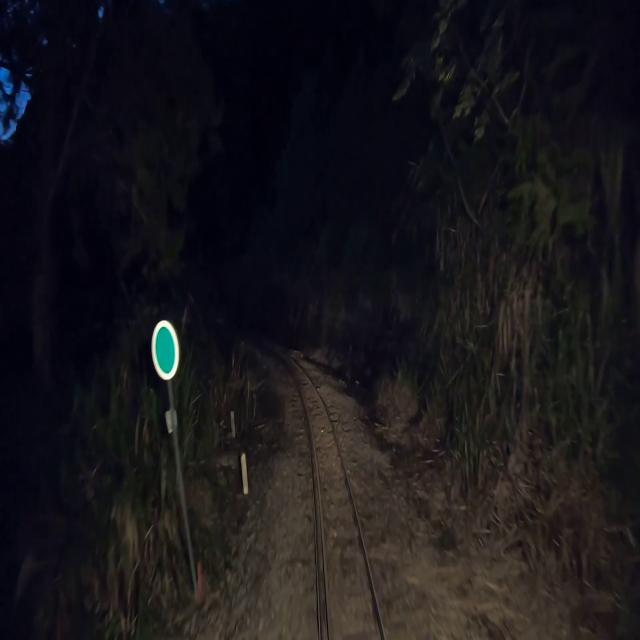rail-track: (286, 358, 382, 639)
